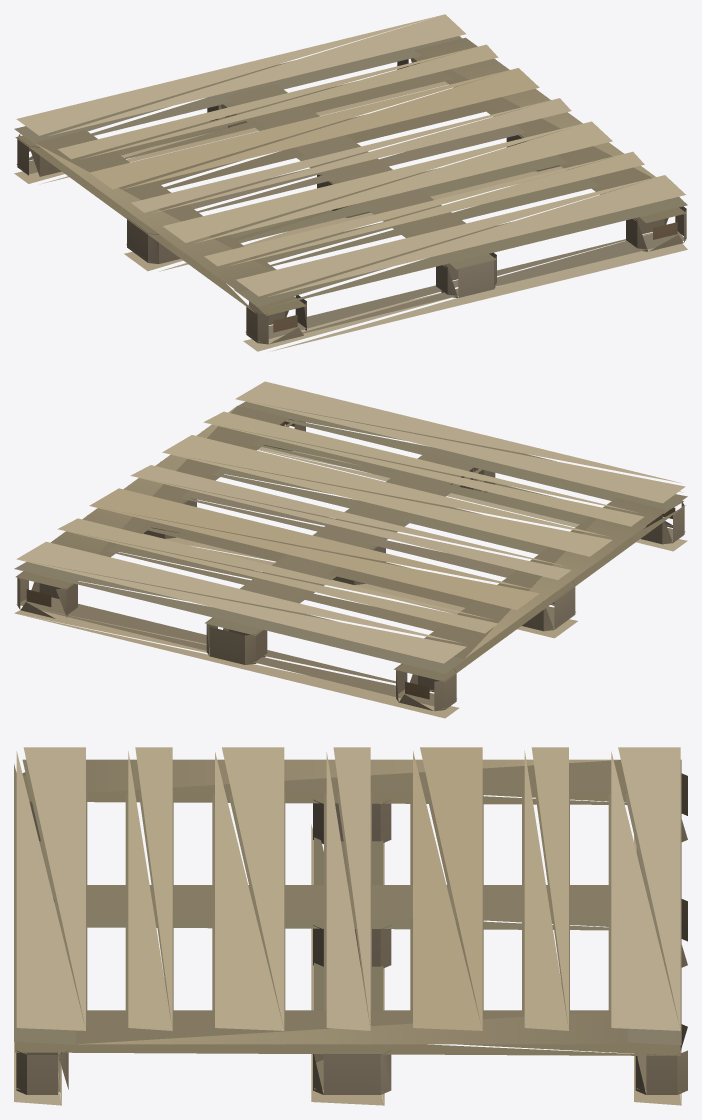
The model's file is pallet.lod.glb.
3 renders of one model, top to bottom at view 1: azimuth 30°, elevation 25°; view 2: azimuth 150°, elevation 25°; view 3: azimuth 270°, elevation 25°, orthographic. The views are drawn at different scales.
Parts seen in each view (by area): view 1: pallet.001; view 2: pallet.001; view 3: pallet.001.
Part boxes in pixels (x1,y1,x2,y2): pallet.001: [14, 14, 687, 351]; pallet.001: [14, 381, 687, 718]; pallet.001: [14, 747, 687, 1105].
Size of the model in its own units: 1.2 by 0.144 by 1.2.
